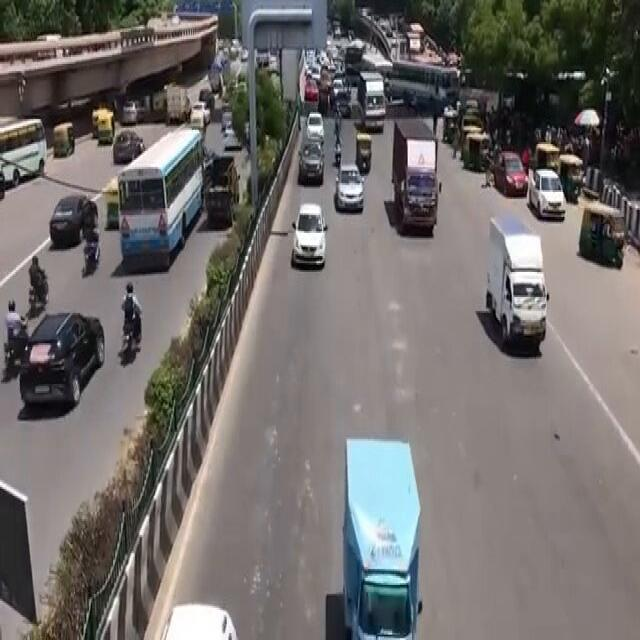three_wheeler: (354, 128, 375, 171)
